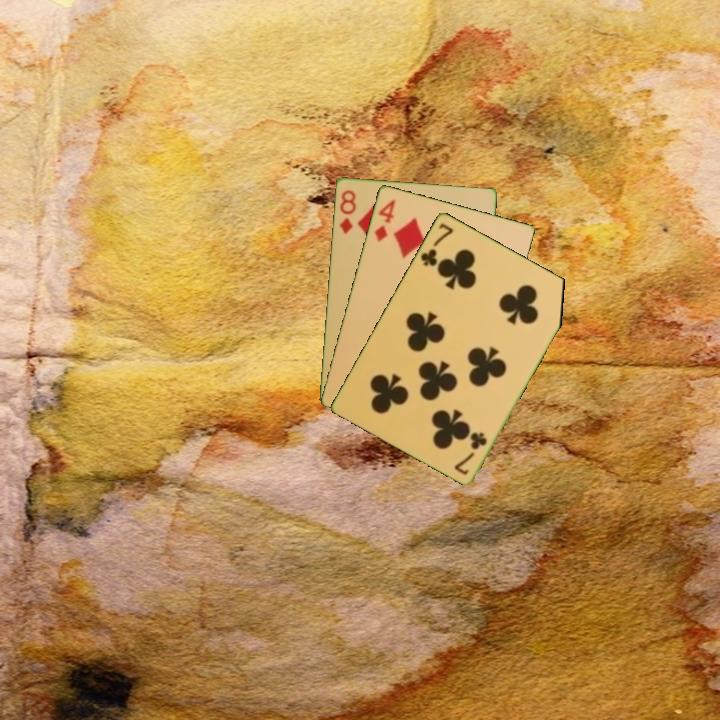4d: (371, 195, 398, 245)
7c: (417, 219, 456, 269), (451, 428, 490, 477)
8d: (336, 186, 359, 237)
